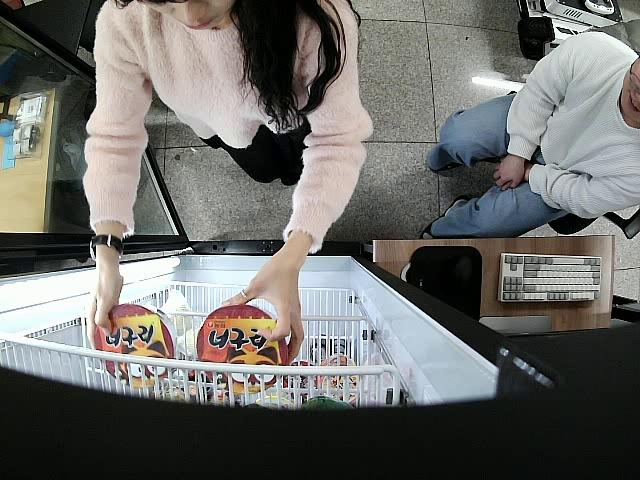00_hand: (221, 251, 304, 363), (82, 247, 125, 351), (493, 154, 527, 191)
05_nuguri_L: (196, 302, 289, 391), (94, 304, 176, 386)
